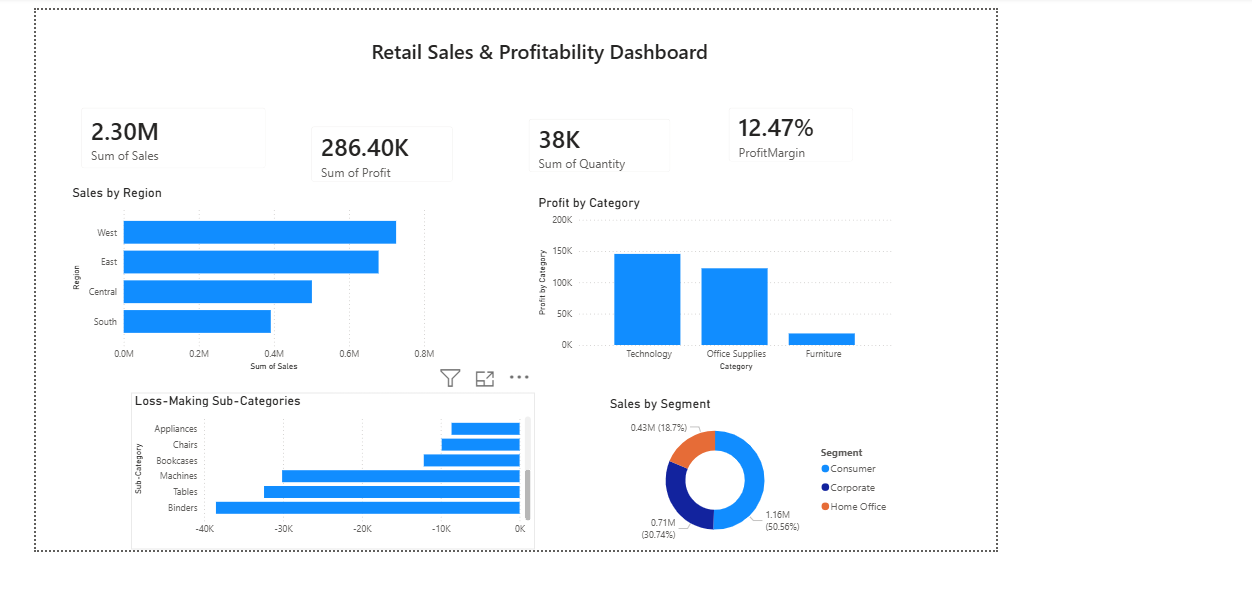

This screenshot's page, from the dashboard's own definition file:
{"tool":"powerbi","page":{"name":"Page 1","canvas":[1280,720],"ordinal":0},"visuals":[{"type":"cardVisual","fields":{"Data":["Sum(SampleSuperstore.Sales)"]},"box":[43.3,113.3,280,115],"z":0},{"type":"cardVisual","fields":{"Data":["Sum(SampleSuperstore.Profit)"]},"box":[350,138.3,223.3,108.3],"z":1},{"type":"cardVisual","fields":{"Data":["Sum(SampleSuperstore.Quantity)"]},"box":[640,128.3,223.3,105],"z":2},{"type":"cardVisual","fields":{"Data":["SampleSuperstore.ProfitMargin"]},"box":[906.7,113.3,200,106.7],"z":3},{"type":"clusteredBarChart","title":"Sales by Region","fields":{"Category":["SampleSuperstore.Region"],"Y":["Sum(SampleSuperstore.Sales)"]},"box":[43.3,233.3,493.3,253.3],"z":4},{"type":"clusteredColumnChart","title":"Profit by Category","fields":{"Category":["SampleSuperstore.Category"],"Y":["Sum(SampleSuperstore.Profit)"]},"box":[665,246.7,483.3,240],"z":5},{"type":"clusteredBarChart","title":"Loss-Making Sub-Categories","fields":{"Category":["SampleSuperstore.Sub-Category"],"Y":["Sum(SampleSuperstore.Profit)"]},"box":[126.7,510,538.3,210],"z":6},{"type":"donutChart","title":"Sales by Segment","fields":{"Category":["SampleSuperstore.Segment"],"Y":["Sum(SampleSuperstore.Sales)"]},"box":[760,515,388.3,205],"z":7},{"type":"textbox","box":[126.7,31.7,1090,81.7],"z":8}]}

Visuals, with their boxes on the page's 1280x720 design canvas (x1, y1, x2, y2). These are canvas units, not pixel positions in the 1252x611 screenshot, which may show the page scaled, cropped or inside an application window:
cardVisual - Sum(SampleSuperstore.Sales): (43, 113, 323, 228)
cardVisual - Sum(SampleSuperstore.Profit): (350, 138, 573, 247)
cardVisual - Sum(SampleSuperstore.Quantity): (640, 128, 863, 233)
cardVisual - SampleSuperstore.ProfitMargin: (907, 113, 1107, 220)
"Sales by Region" clusteredBarChart: (43, 233, 537, 487)
"Profit by Category" clusteredColumnChart: (665, 247, 1148, 487)
"Loss-Making Sub-Categories" clusteredBarChart: (127, 510, 665, 720)
"Sales by Segment" donutChart: (760, 515, 1148, 720)
textbox: (127, 32, 1217, 113)
